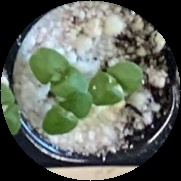Basil: (31, 47, 86, 95), (89, 59, 142, 106), (46, 88, 95, 135)
